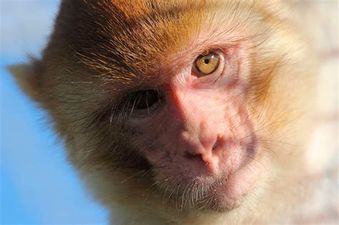monkey: (14, 3, 314, 209)
